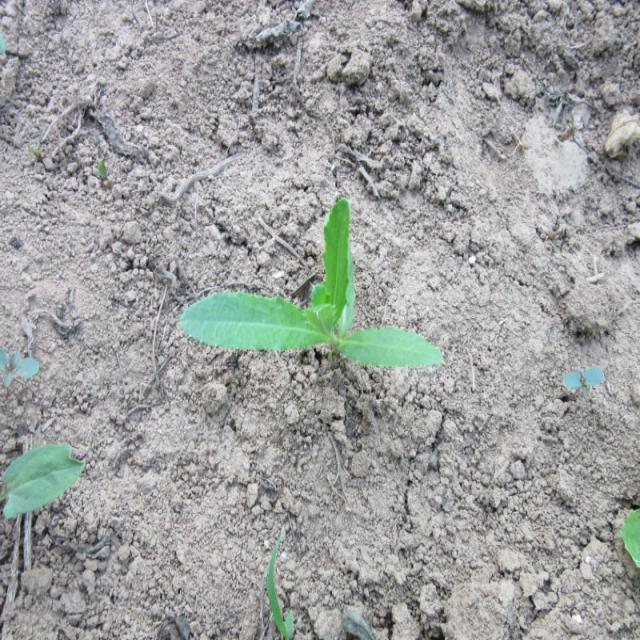cs: (178, 195, 444, 369)
